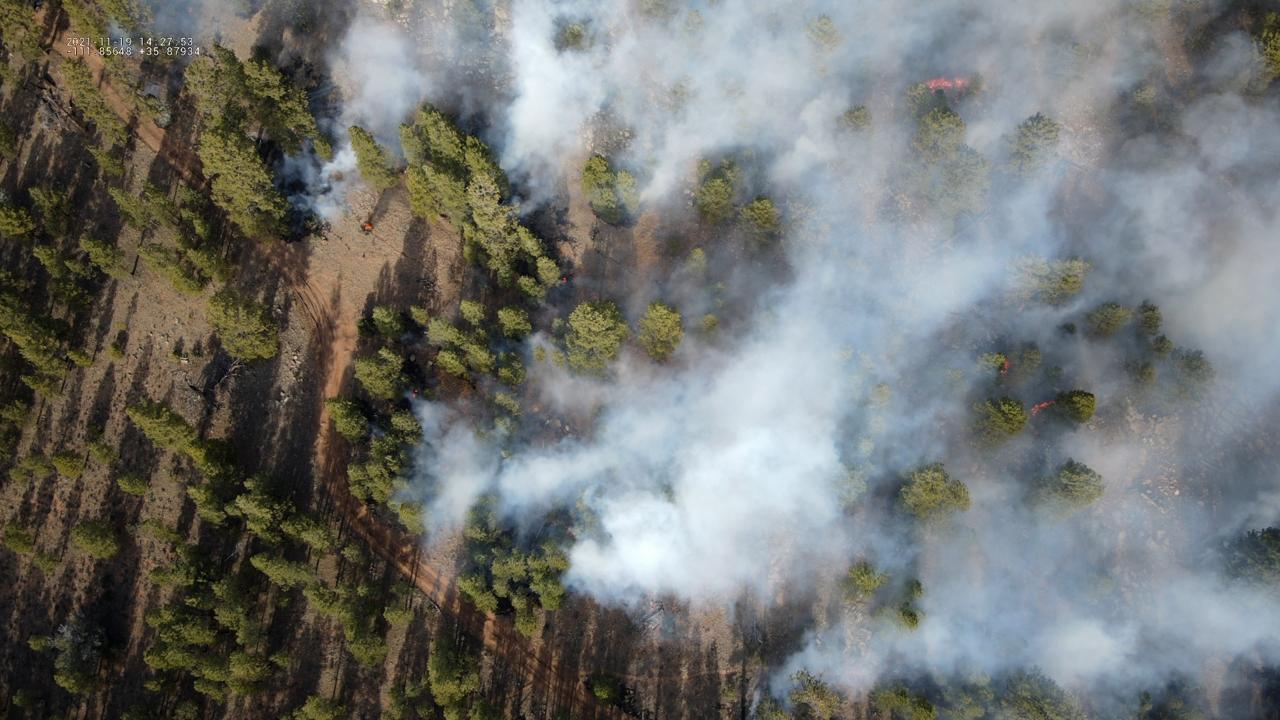fire: (923, 75, 971, 91), (1030, 400, 1055, 417), (1001, 358, 1010, 375), (364, 222, 373, 232), (411, 389, 419, 400), (532, 403, 541, 412), (561, 276, 568, 285)
smoke: (272, 0, 1280, 720), (107, 0, 258, 65)
